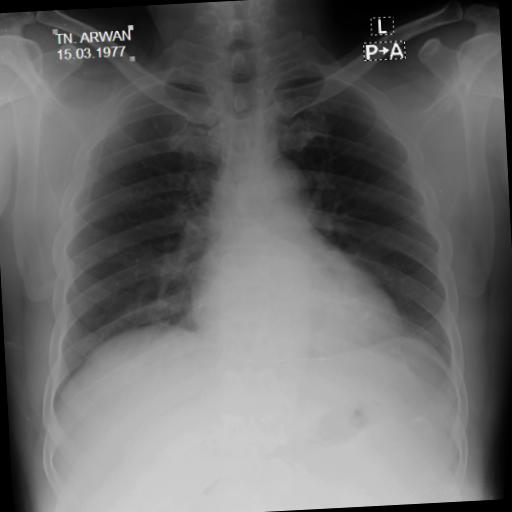kardiomegali: (22, 24, 467, 419)
